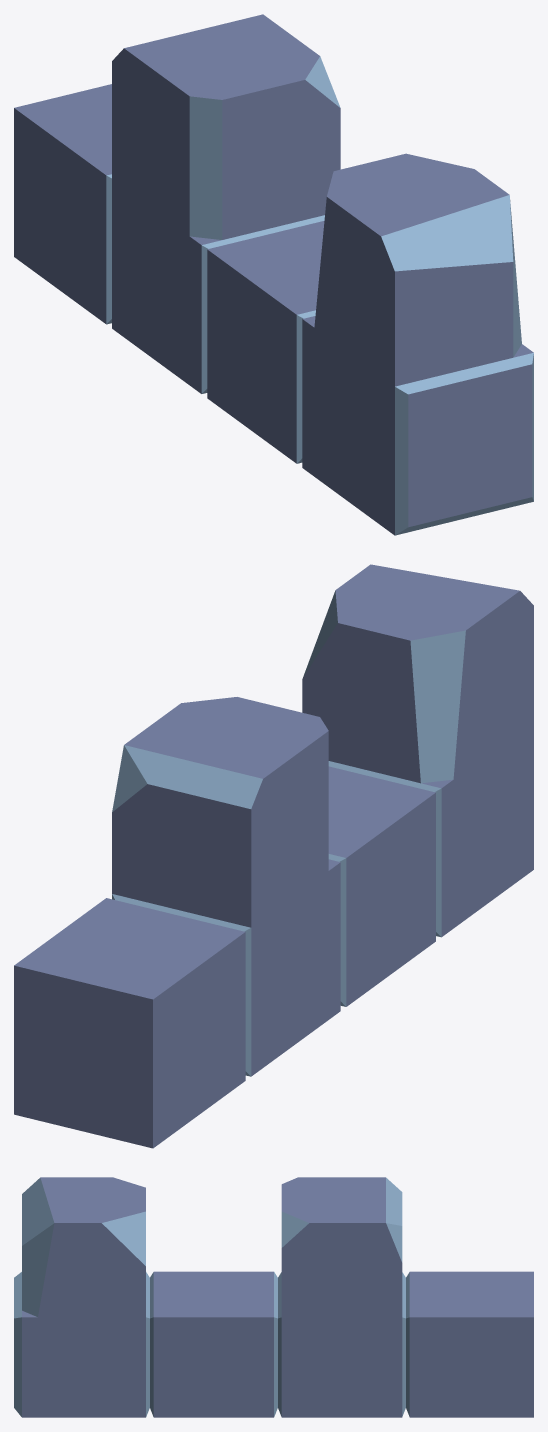
Rendered from Wall_Base_Balustrade_03.fbx.
The picture shows the model from 3 angles, top to bottom: view 1: azimuth 30°, elevation 25°; view 2: azimuth 150°, elevation 25°; view 3: azimuth 270°, elevation 25°; orthographic projection. The views are drawn at different scales.
Parts seen in each view (by area): view 1: Wall_Base_Balustrade_03; view 2: Wall_Base_Balustrade_03; view 3: Wall_Base_Balustrade_03.
Boxes of the visible parts, <box> form: Wall_Base_Balustrade_03: <box>14,14,533,535</box>; Wall_Base_Balustrade_03: <box>14,564,533,1148</box>; Wall_Base_Balustrade_03: <box>14,1177,533,1417</box>.
Bounding box in the file's own units: 75 × 149 × 361.
